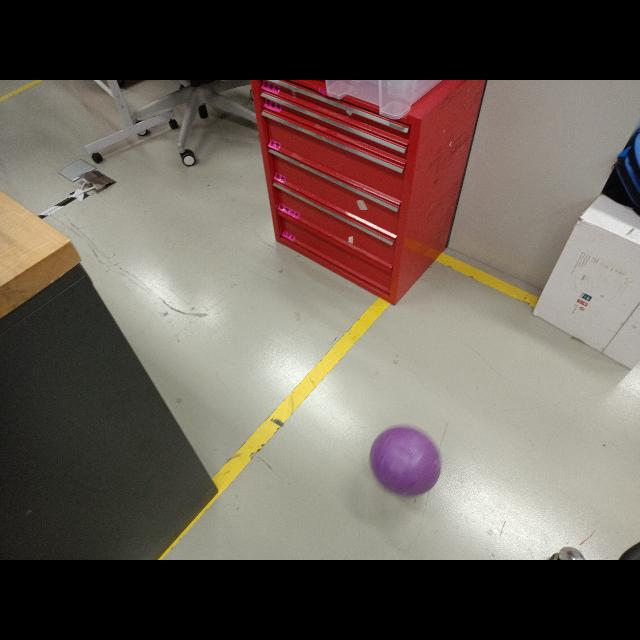P: (371, 426, 447, 494)
